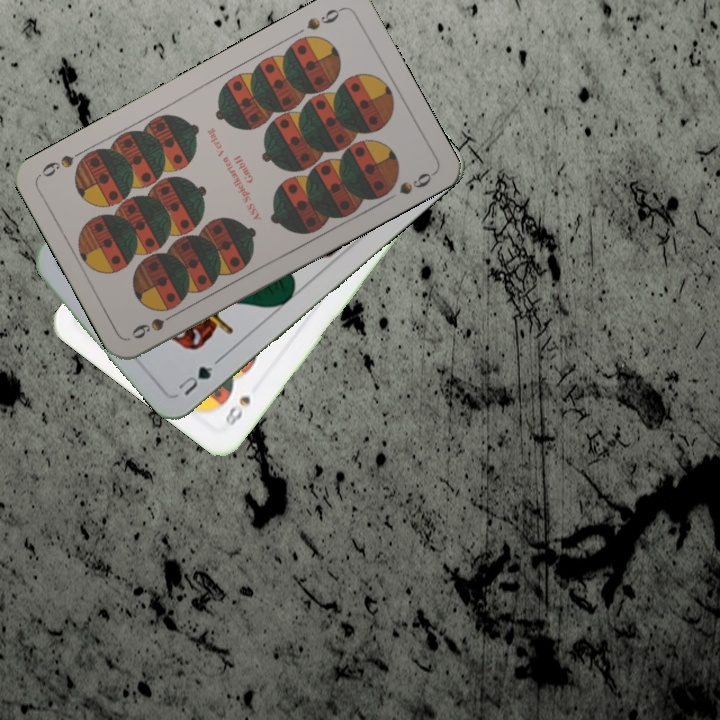GU: (174, 362, 216, 399)
S8: (220, 391, 254, 429)
S9: (127, 307, 182, 342), (302, 3, 346, 33)
